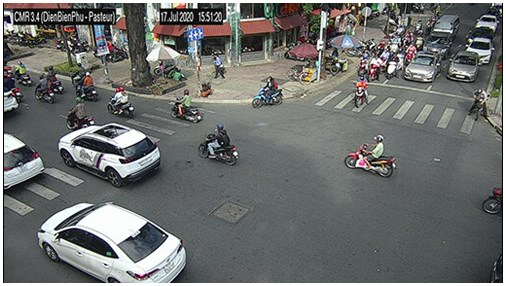xe_may: (342, 135, 397, 178), (197, 122, 239, 167), (251, 77, 283, 109), (172, 90, 202, 124), (65, 97, 94, 128), (107, 85, 134, 117), (468, 88, 489, 124), (76, 70, 99, 101), (33, 75, 55, 104), (352, 75, 370, 109), (481, 187, 502, 213), (15, 60, 34, 87), (46, 63, 62, 93), (367, 54, 383, 82), (386, 49, 399, 80), (357, 49, 368, 79), (406, 42, 414, 64), (417, 30, 424, 50), (425, 17, 432, 33), (414, 19, 422, 32)
